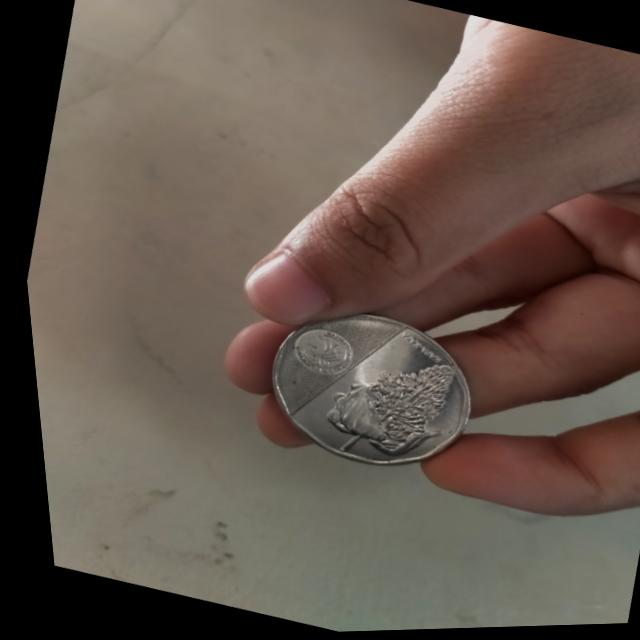10_New_Back: (308, 335, 468, 487)
